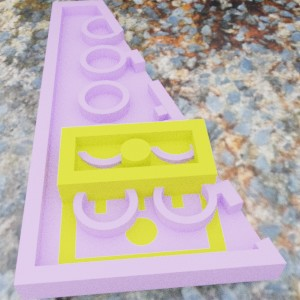lego: (13, 0, 286, 299), (56, 118, 229, 290)
